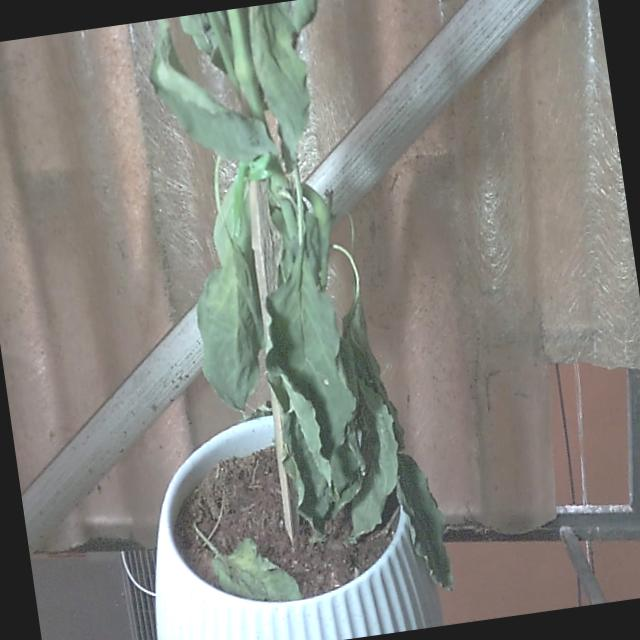Leaf: (254, 250, 364, 488), (184, 234, 276, 424), (244, 2, 320, 172), (390, 442, 457, 597)
